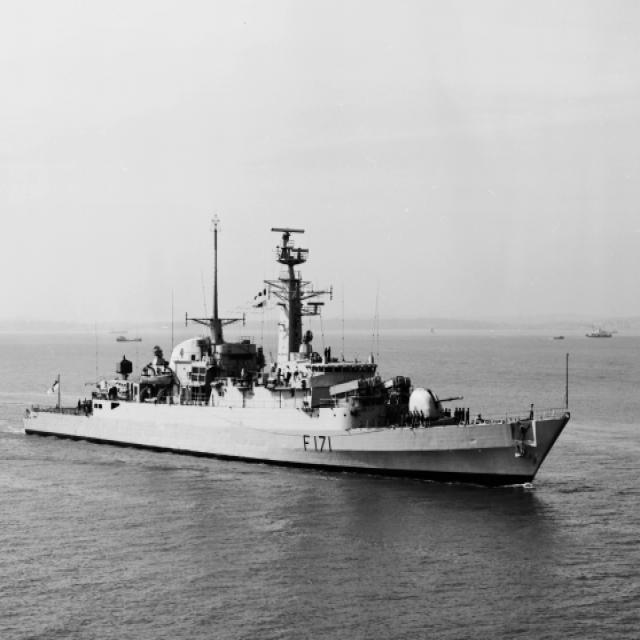Fragata: (21, 198, 579, 501)
